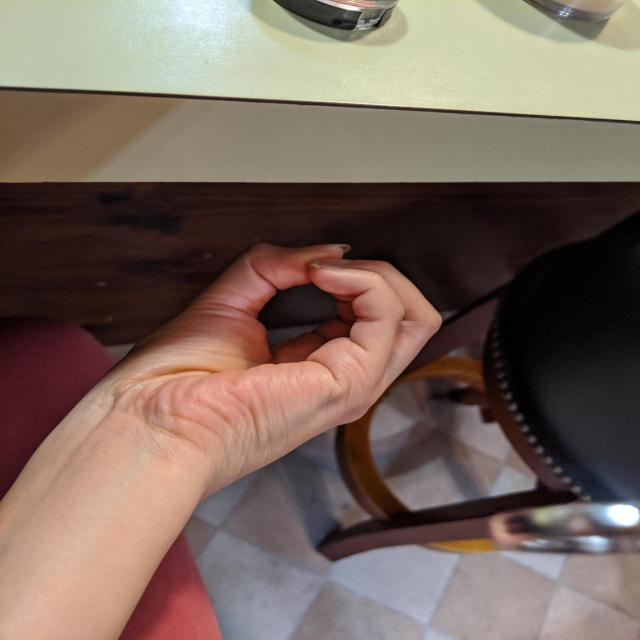O: (94, 239, 448, 483)
